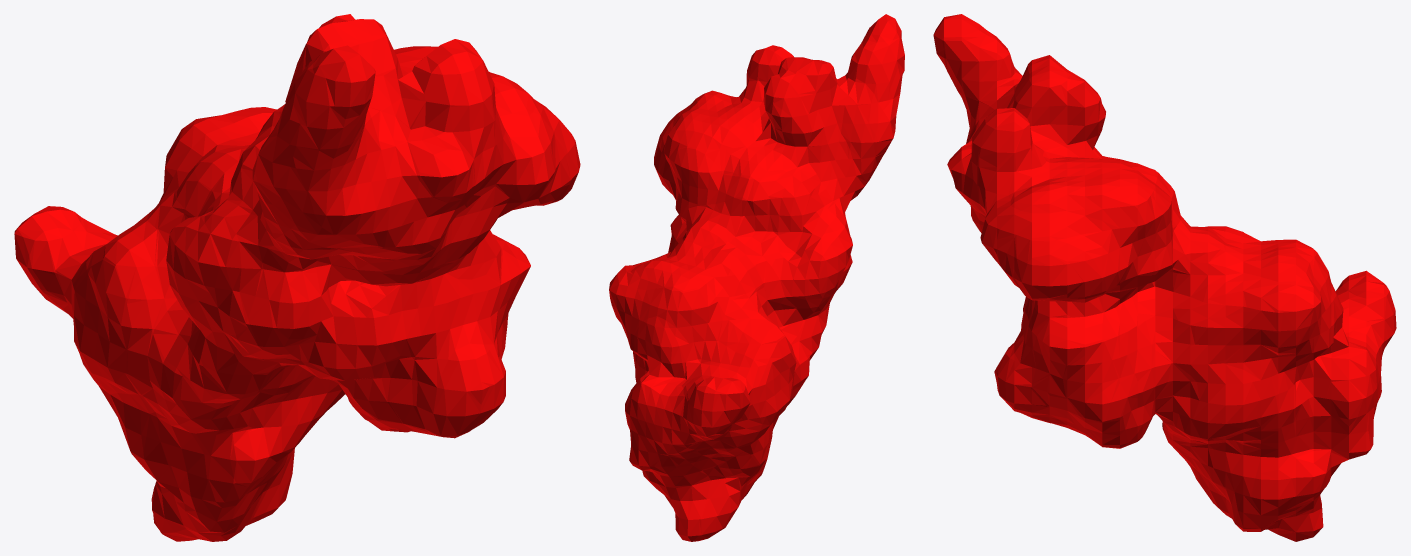
Rendered from mrcB_coarse.dae.
3 views of the same model, side by side, from view 1: azimuth 30°, elevation 25°; view 2: azimuth 150°, elevation 25°; view 3: azimuth 270°, elevation 25° (orthographic). The views are drawn at different scales.
Visible parts, largest first — view 1: mrcB; view 2: mrcB; view 3: mrcB.
Part boxes in pixels (bbox=[...]): mrcB: bbox=[14, 14, 580, 541]; mrcB: bbox=[609, 14, 904, 541]; mrcB: bbox=[933, 14, 1396, 541].
Bounding box in the file's own units: 59.83 × 112 × 94.52.
